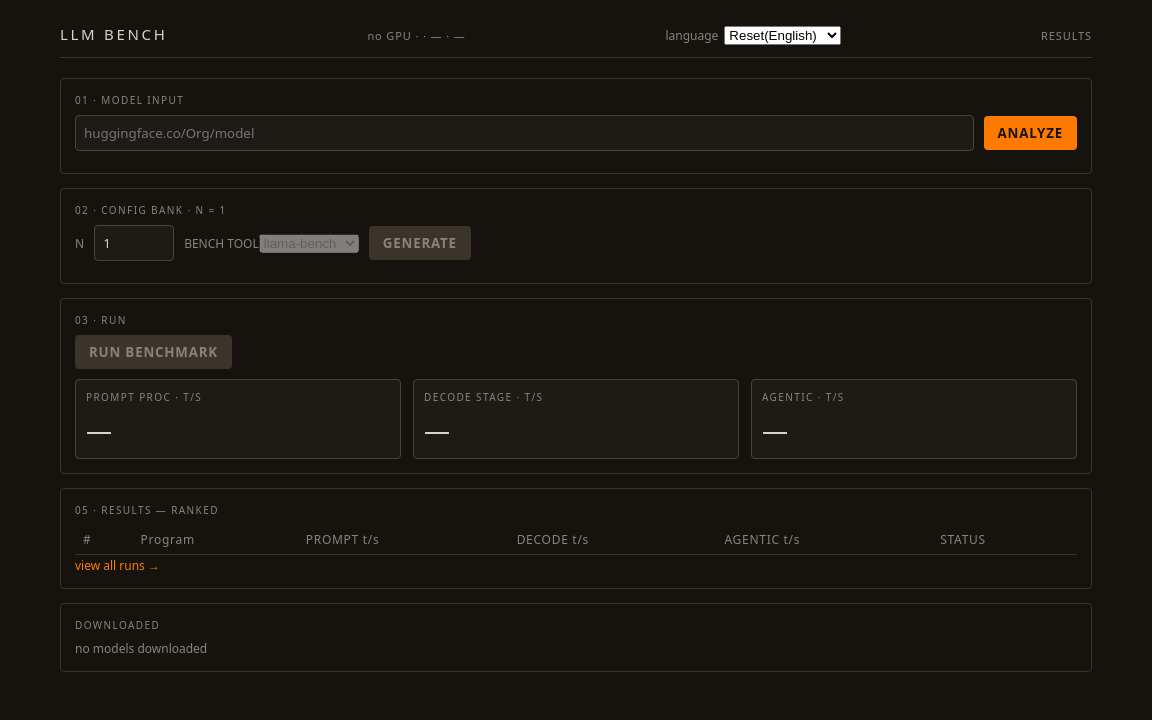
Test case: fit line renders OFFLOADS TO RAM when verdict is ram_offload
Type "org/model" into the field with placeholder "huggingface.co/Org/model" at [524, 133], box [75,115,974,151]
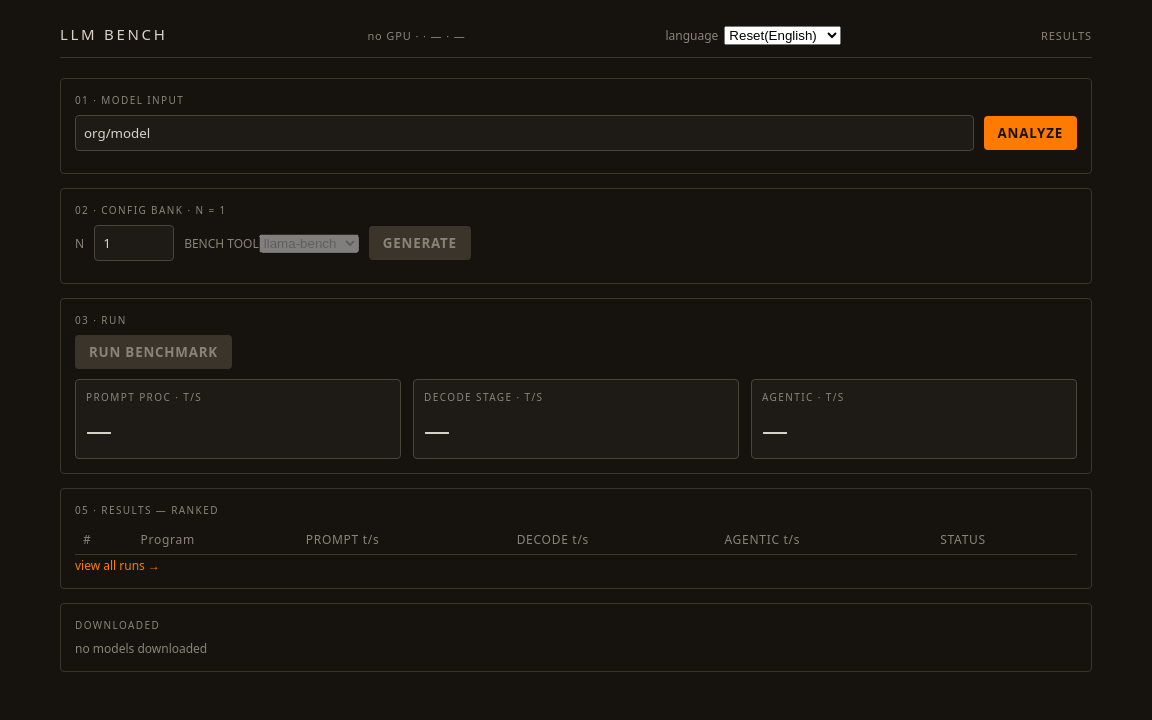
Click the button "ANALYZE" at [1030, 133], box [984,116,1077,150]
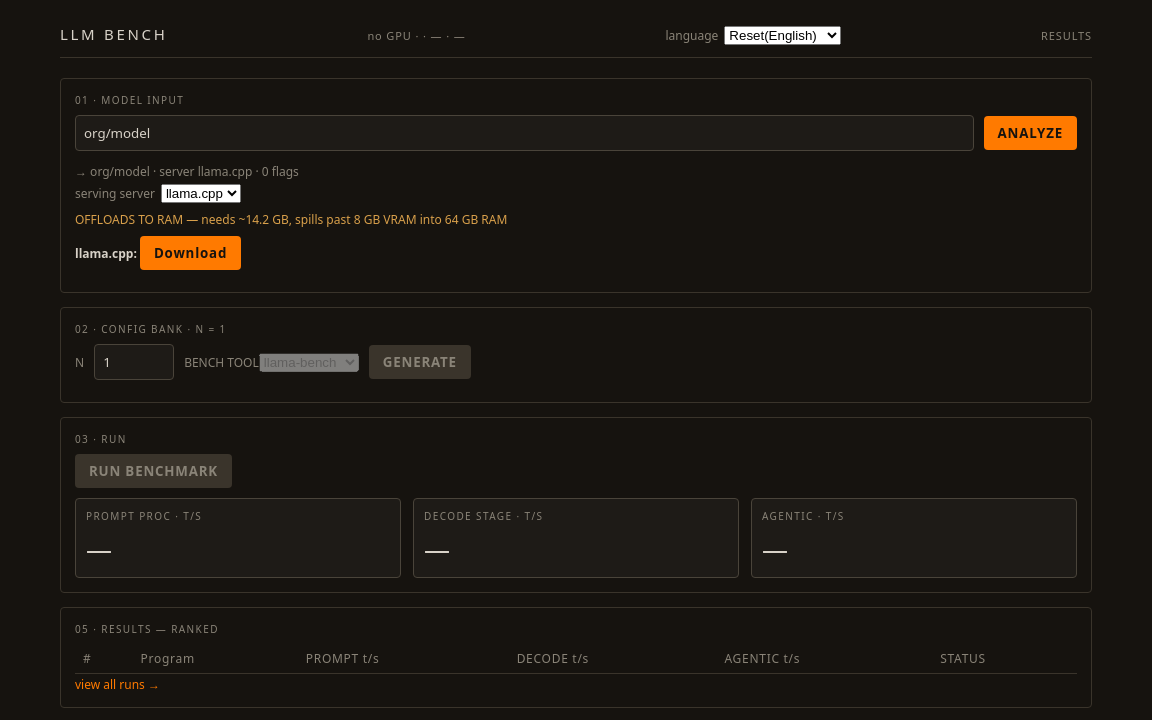
expect the text "14.2 GB" is shown: met, box [75,211,507,228]
